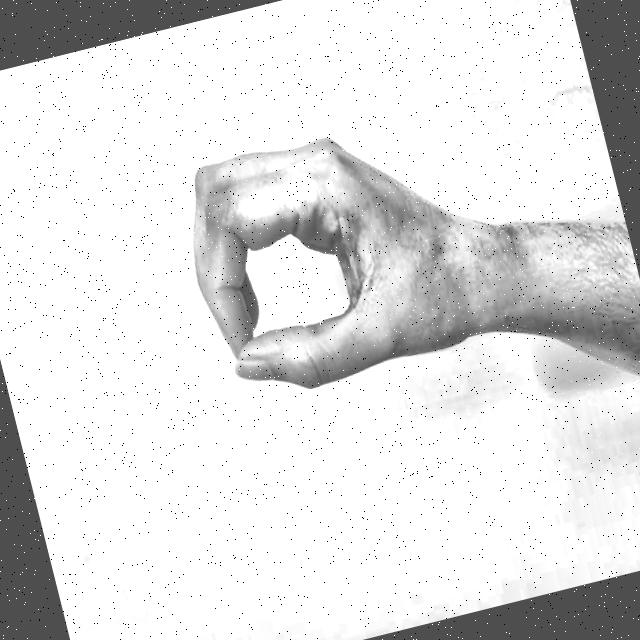O: (143, 80, 498, 444)
